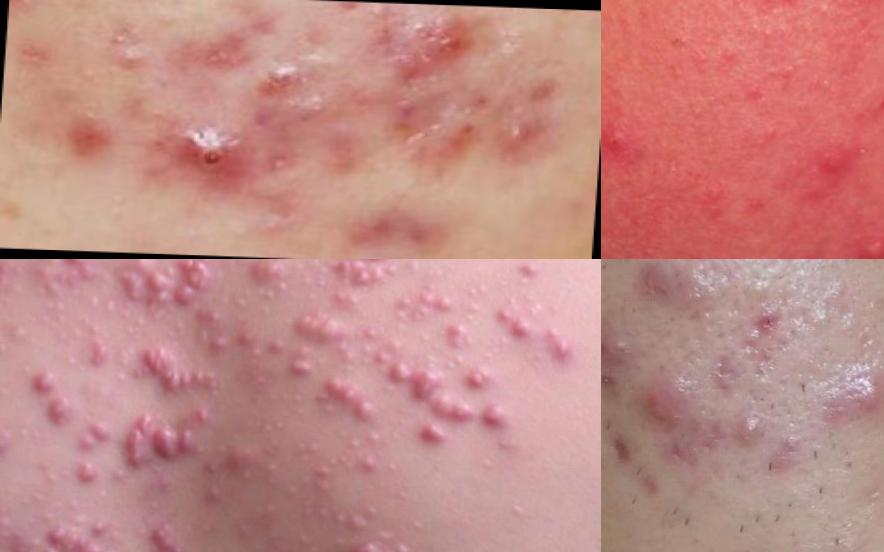cystic: (818, 360, 884, 428)
keloid: (381, 356, 481, 431), (133, 343, 227, 398), (320, 375, 389, 429), (141, 419, 210, 465), (289, 302, 355, 350), (325, 260, 405, 289), (173, 260, 216, 308), (348, 537, 419, 552)
papular: (398, 19, 502, 69), (625, 260, 702, 313), (64, 104, 108, 165), (602, 120, 643, 175), (487, 299, 538, 343), (818, 134, 857, 177), (547, 327, 581, 366), (42, 393, 74, 429), (27, 365, 62, 395), (852, 229, 884, 260)
purulent: (176, 115, 247, 179)
sebo-crystan-conglo: (634, 380, 703, 442), (114, 260, 177, 311), (389, 286, 459, 330), (191, 302, 243, 358), (36, 519, 122, 552), (121, 407, 158, 479), (22, 260, 102, 284), (241, 260, 291, 297), (733, 413, 773, 458), (136, 521, 193, 552), (74, 416, 115, 453), (602, 331, 632, 374), (74, 457, 106, 495), (1, 260, 18, 311), (470, 362, 495, 395)
whitehead: (286, 430, 336, 468), (734, 273, 784, 308), (78, 287, 112, 328), (803, 308, 837, 341), (744, 326, 761, 351)
